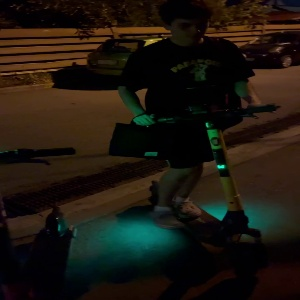human on a scooter: (106, 1, 279, 286)
